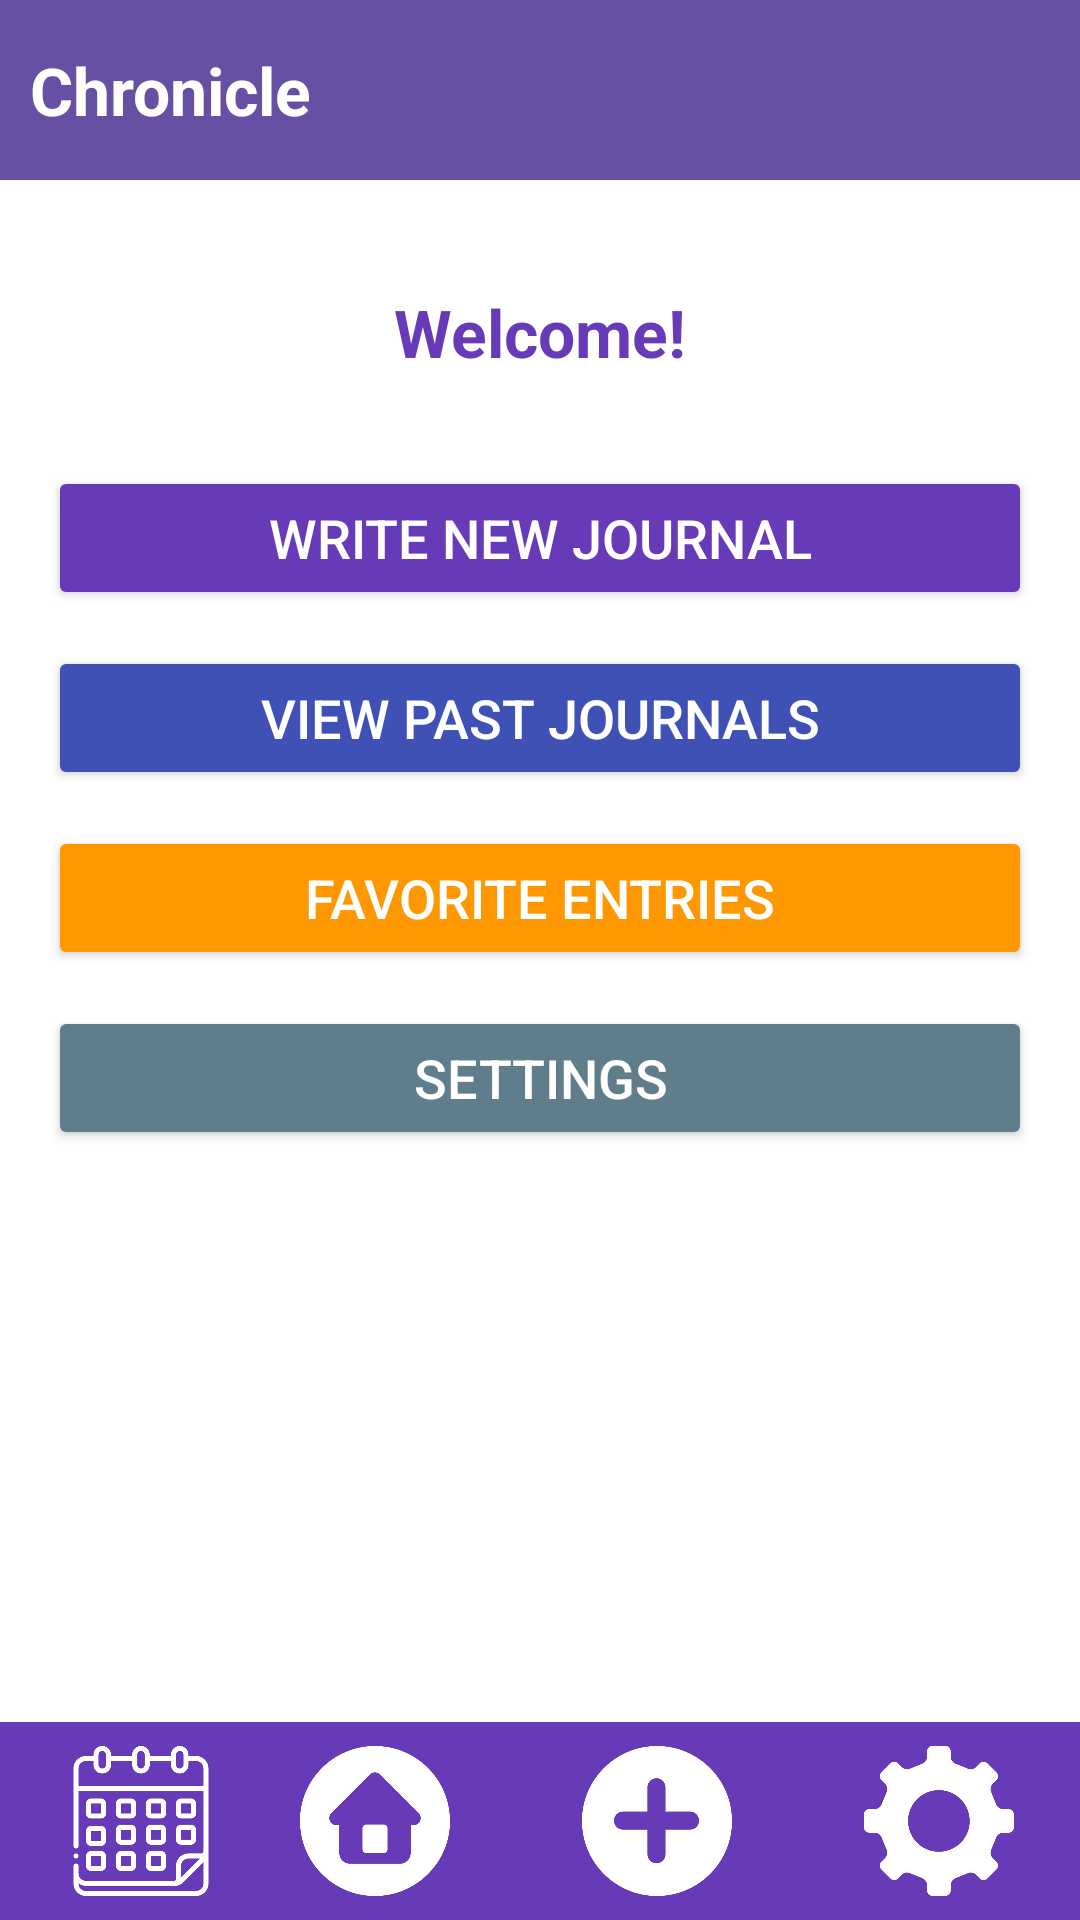

Icon bounding boxes for this 1080x1920 phone screenshot, format (x1, y1, x2, y2):
Calendar: (73, 1746, 209, 1896)
Create: (582, 1746, 732, 1896)
Dashboard: (300, 1746, 450, 1896)
Settings: (864, 1746, 1014, 1896)
